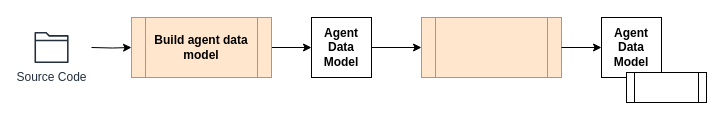
This 725x120 diagram has some shape labels left out. Here are the shapes that lost their labels. From the top down, the centre of each, then its label:
At point 491,47: "Append custom extension".
At point 666,87: "Custom Extension".
